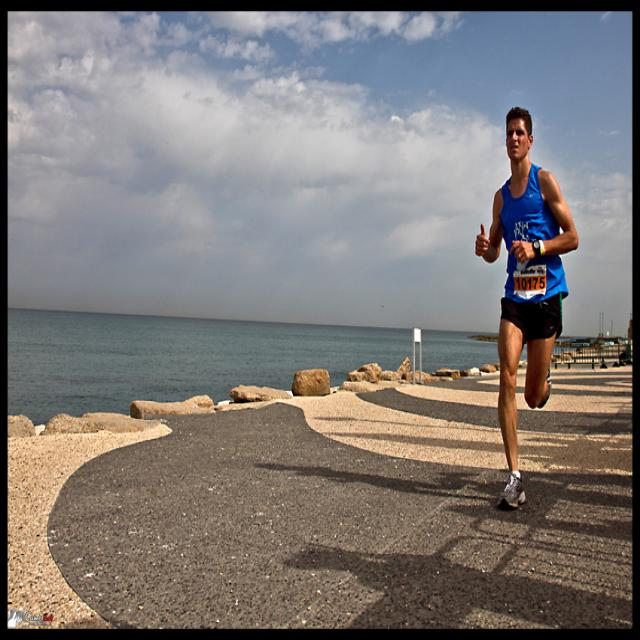Bib: (517, 276, 549, 292)
